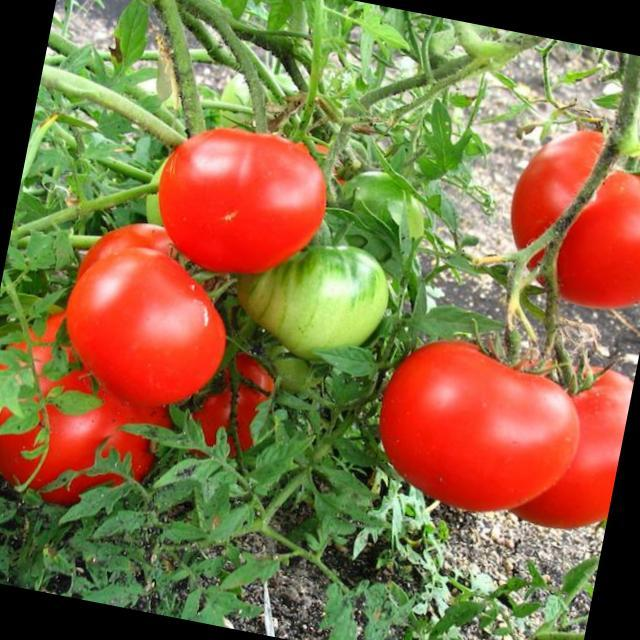TOMATO: (372, 332, 590, 529), (0, 303, 181, 512), (49, 233, 240, 420), (146, 110, 332, 294), (494, 112, 640, 316), (238, 224, 398, 374), (185, 320, 318, 480), (66, 210, 185, 308)
